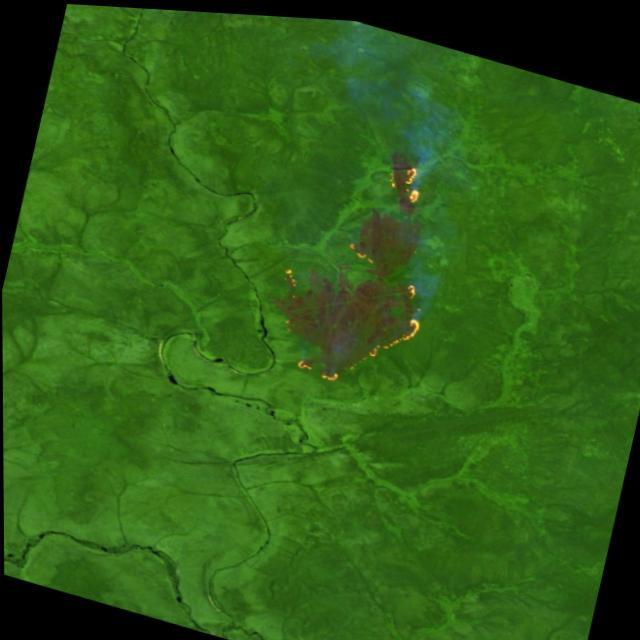fire: (277, 135, 451, 408)
